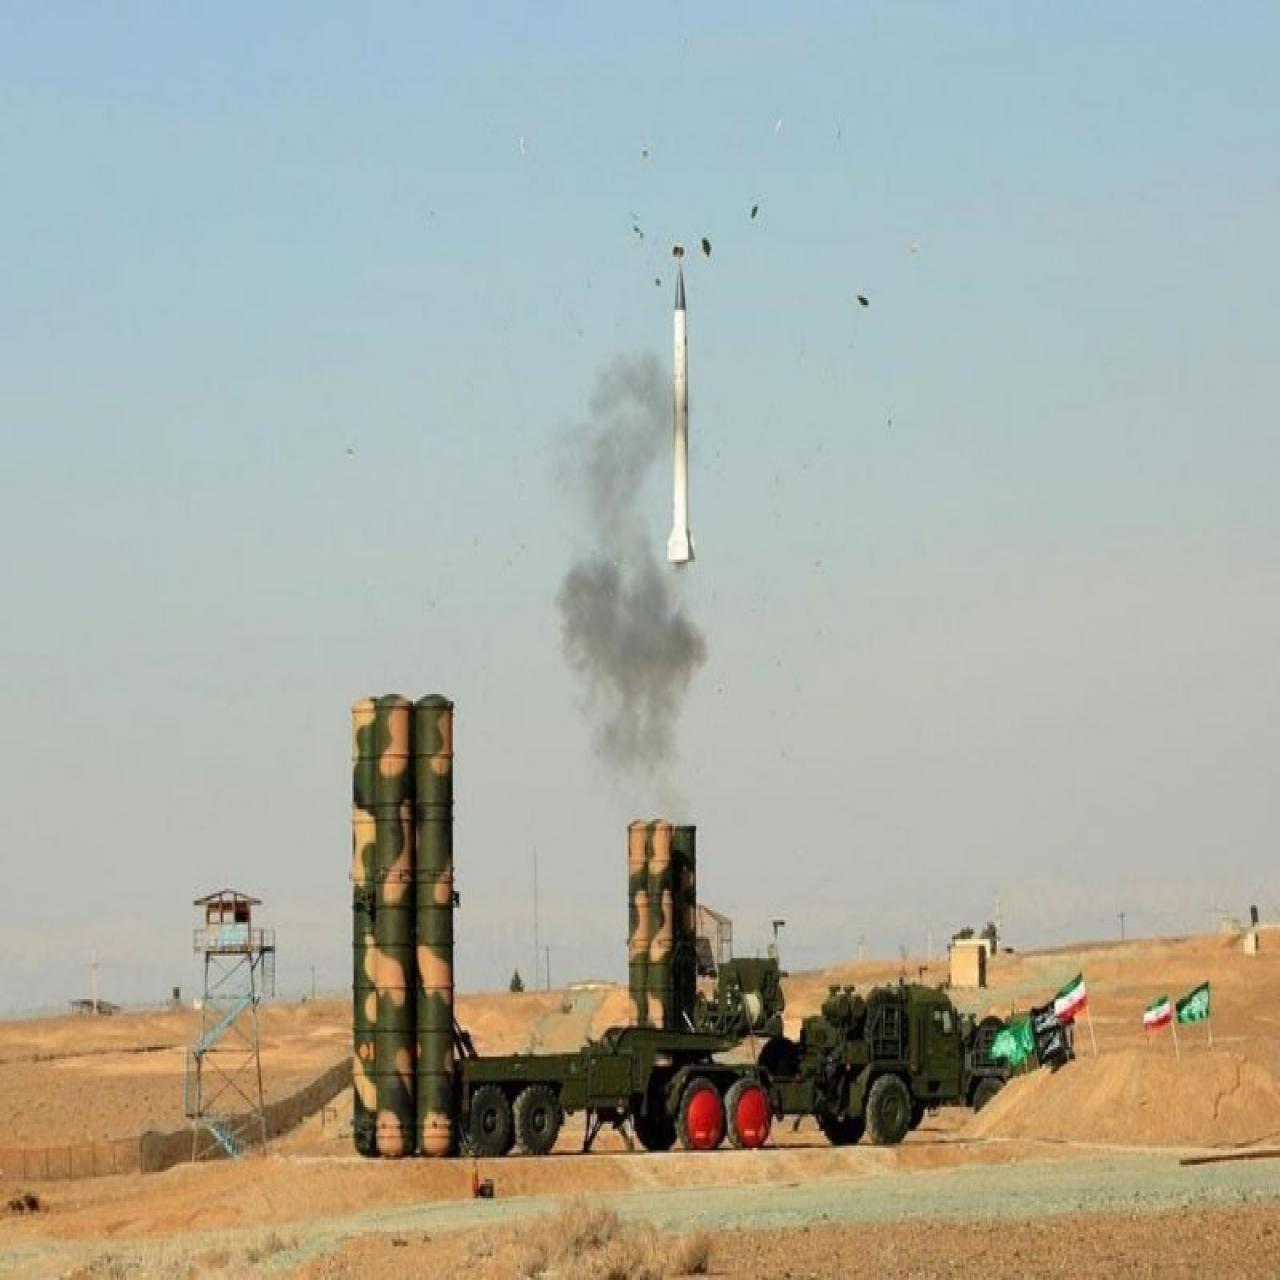MIL_Veh: (347, 696, 967, 1144)
